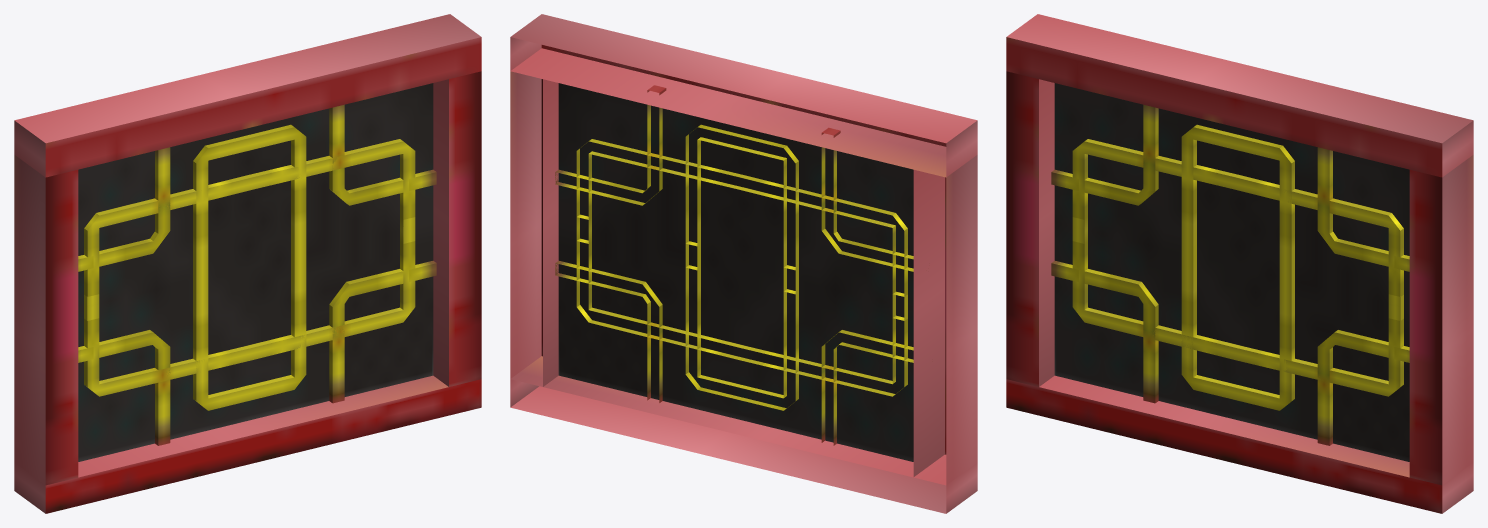
Rendered from Poly_SF_Outside_B_Window_14.obj.
3 renders of one model, left to right at view 1: azimuth 30°, elevation 25°; view 2: azimuth 150°, elevation 25°; view 3: azimuth 330°, elevation 25°, orthographic.
Parts seen in each view (by area): view 1: Cube.001, Cube.002, Cube.004; view 2: Cube.001, Cube.002, Cube.004; view 3: Cube.001, Cube.002, Cube.004.
Part boxes in pixels (x1,y1,x2,y2): Cube.001: (14, 14, 481, 513); Cube.002: (14, 71, 481, 485); Cube.004: (78, 104, 436, 445); Cube.001: (510, 14, 977, 513); Cube.002: (510, 71, 977, 484); Cube.004: (555, 85, 913, 445); Cube.001: (1006, 14, 1473, 513); Cube.002: (1006, 71, 1473, 485); Cube.004: (1051, 104, 1409, 445).
Size of the model in its own units: 0.8 by 0.65 by 0.1.
1 material, 1 textured.
